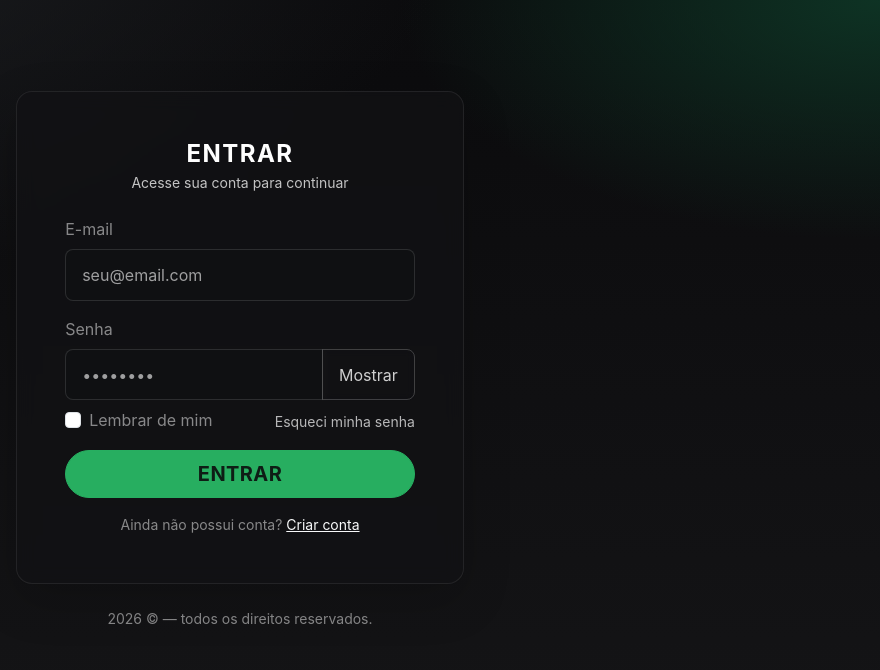
Login › uses every login error fallback
Type "user@example.com" into the field labelled "E-mail" at (240, 275), box [65,249,415,301]
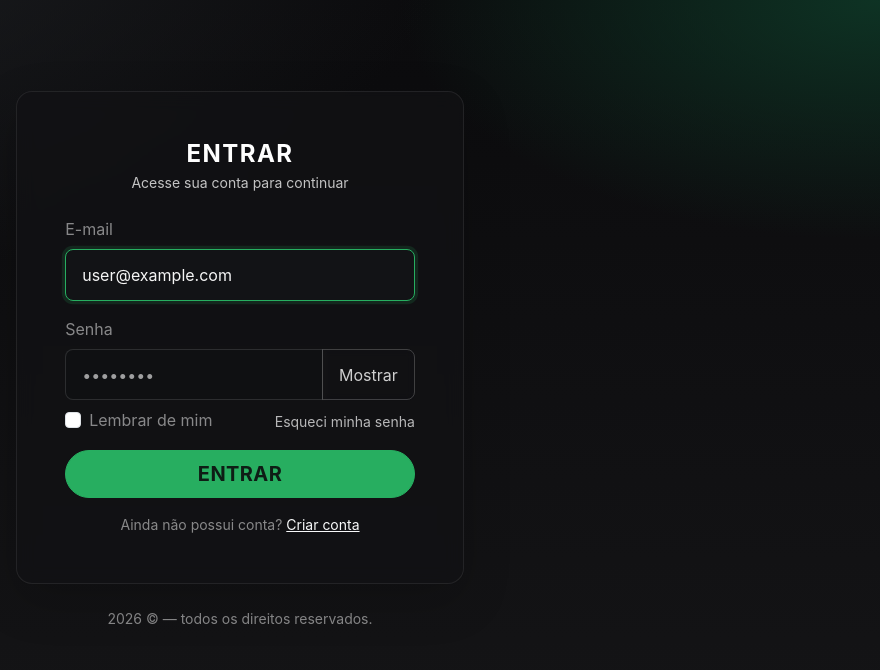
Type "wrong123" into the password field labelled "Senha" at (194, 375), box [65,349,323,400]
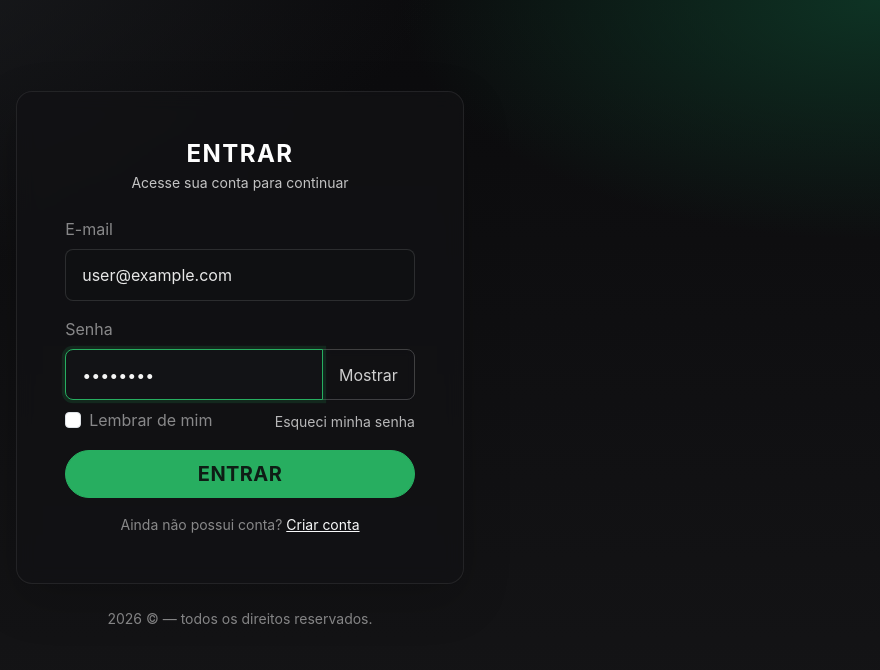
Click the button with aria-label "Mostrar senha" at (368, 375), box [322,349,415,400]
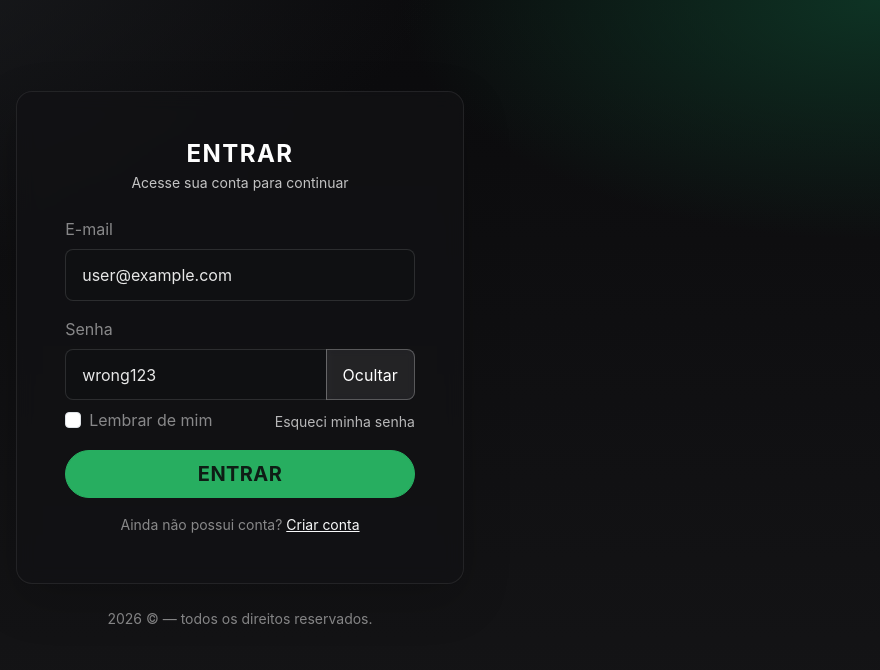
Result: the field labelled "Senha" shows its text at [65,349,327,400]
Click the button "Entrar" at (240, 474), box [65,450,415,498]
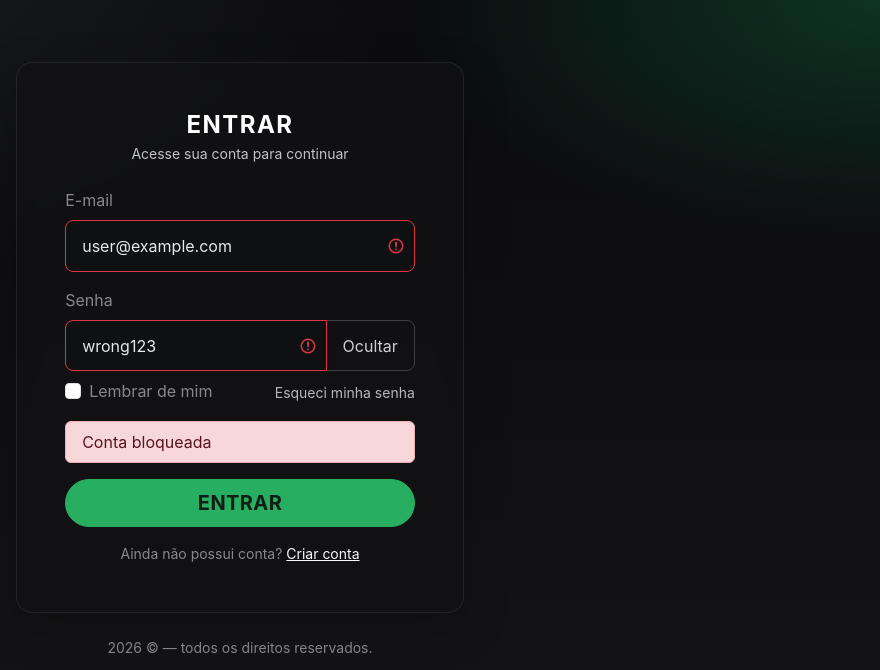
Result: the text "Conta bloqueada" is shown at [65,422,415,464]
